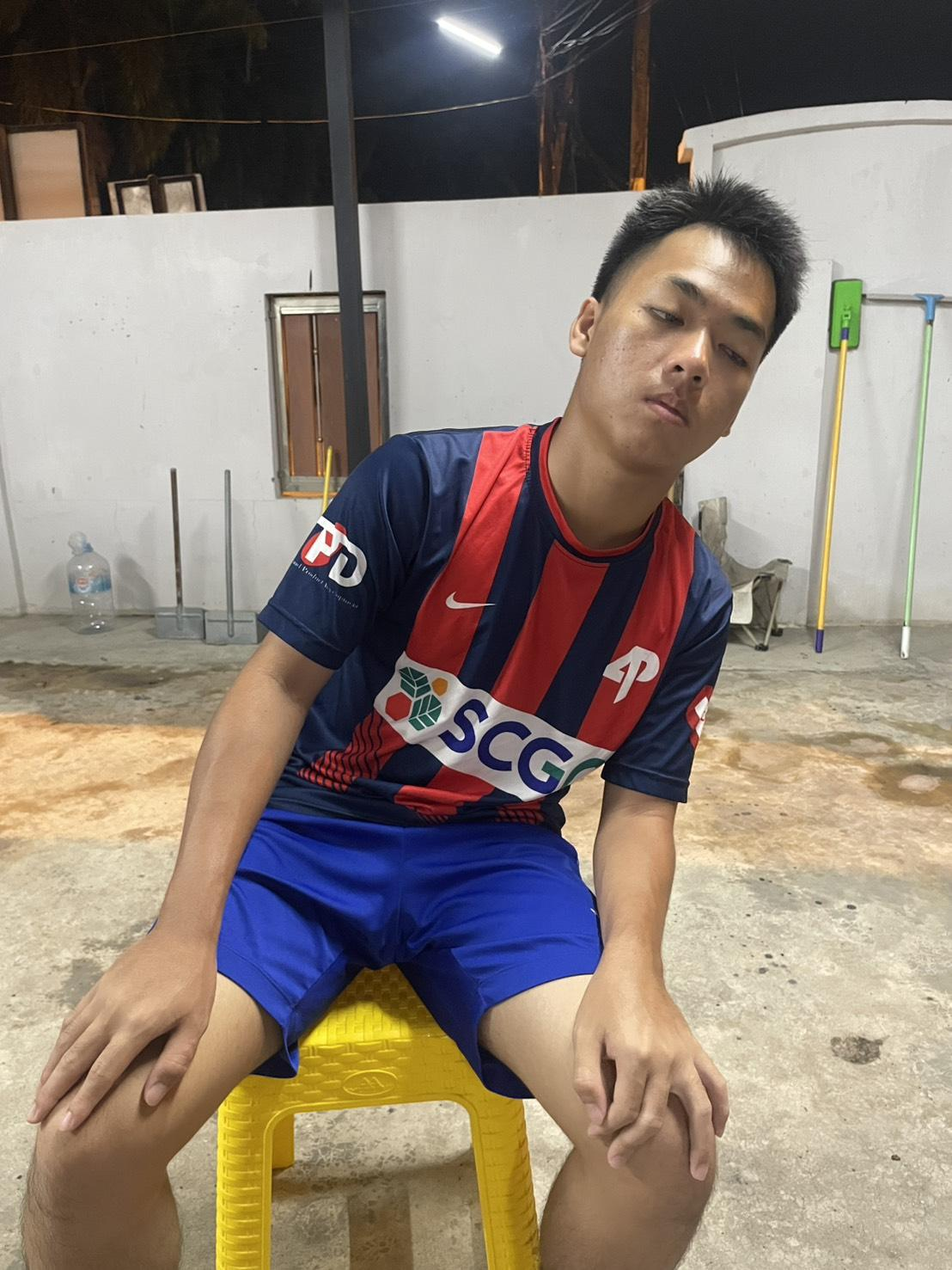BadPosture: (226, 178, 802, 1047)
